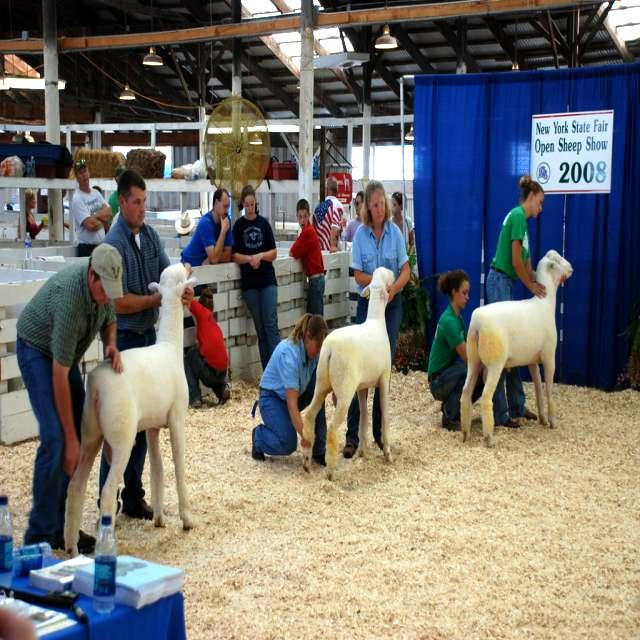sheep: (63, 264, 190, 555), (463, 253, 572, 435), (301, 268, 393, 469)
